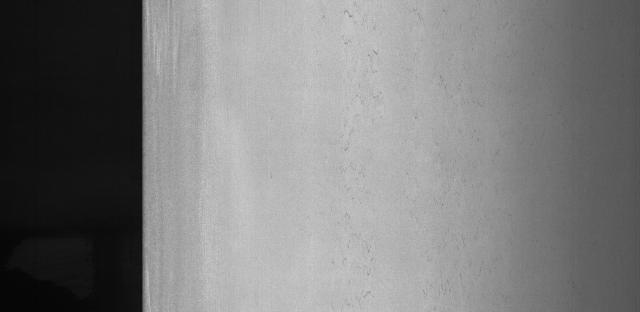silk_spot: (326, 1, 408, 258)
